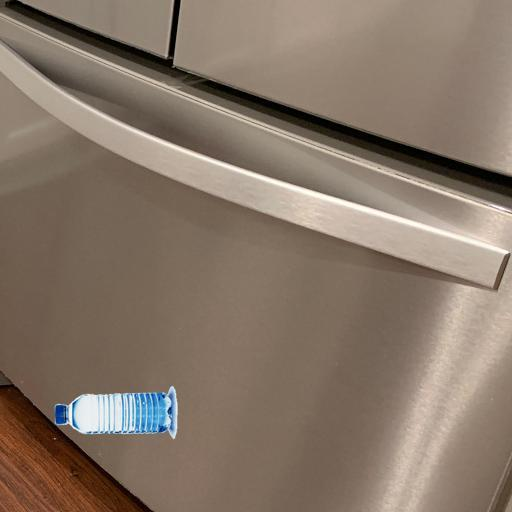bottle: (48, 369, 185, 447)
